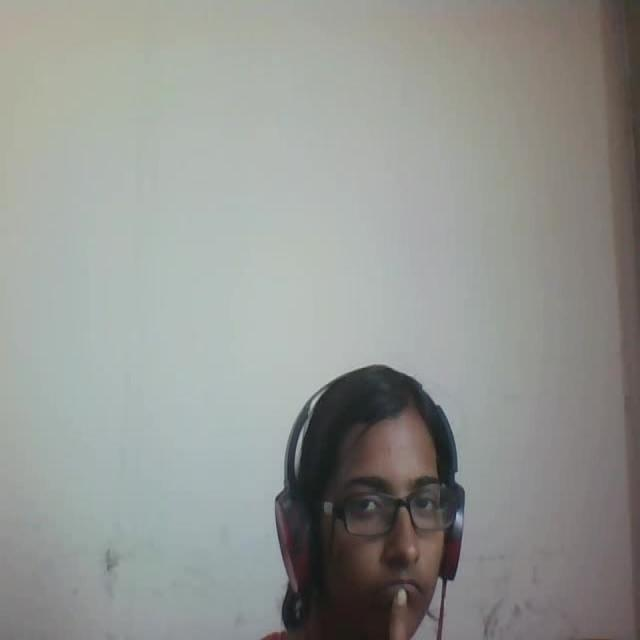Engaged: (251, 332, 505, 640)
